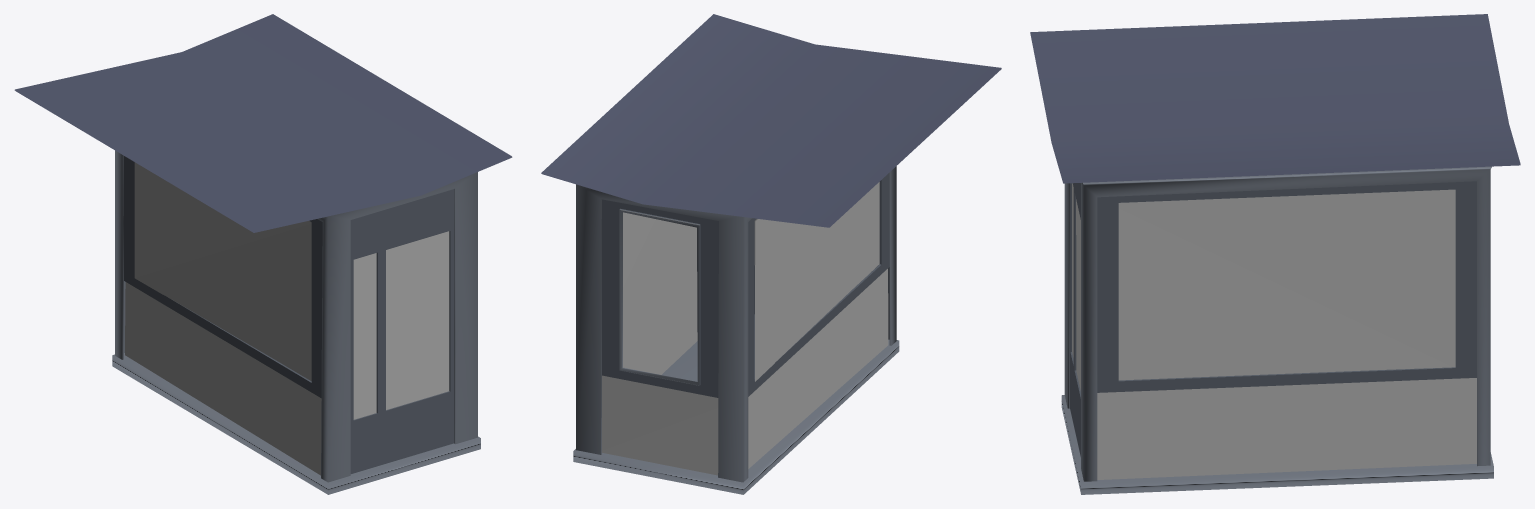
Rendered from newsStand.fbx.
3 views of the same model, side by side, from view 1: azimuth 30°, elevation 25°; view 2: azimuth 150°, elevation 25°; view 3: azimuth 270°, elevation 25° (orthographic). The views are drawn at different scales.
Parts seen in each view (by area): view 1: newsStand_geo; view 2: newsStand_geo; view 3: newsStand_geo.
Part boxes in pixels (x1,y1,x2,y2): newsStand_geo: [14, 14, 512, 494]; newsStand_geo: [541, 14, 1001, 494]; newsStand_geo: [1030, 14, 1520, 494].
Size of the model in its own units: 0.3468 by 0.3182 by 0.432.
